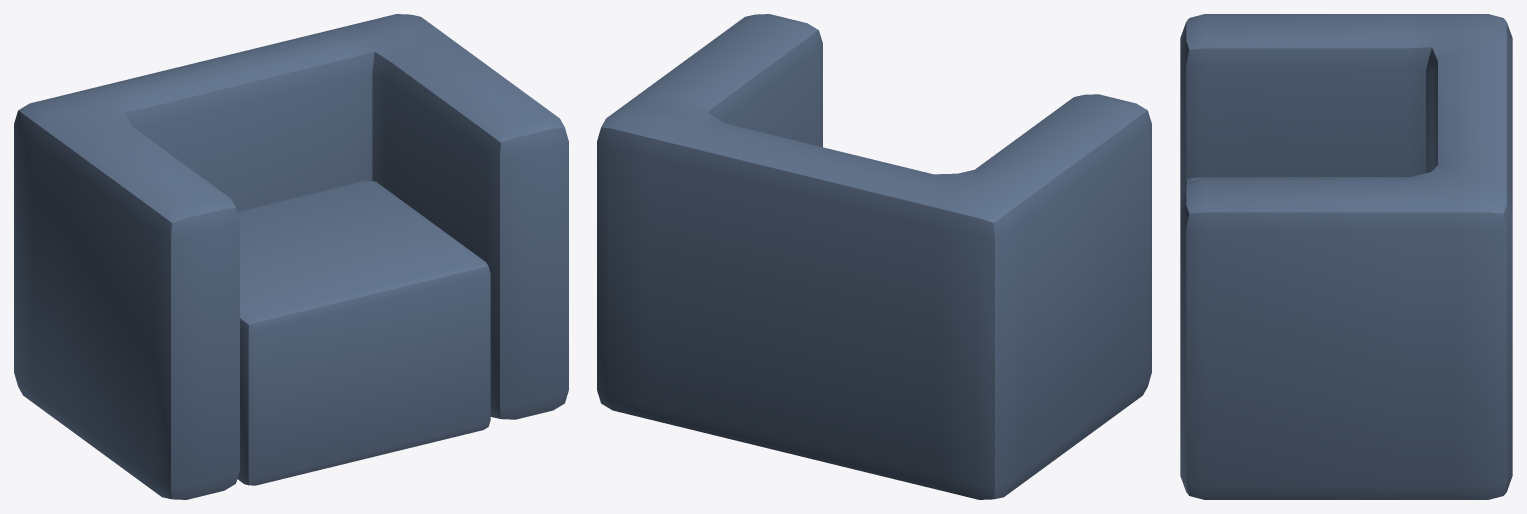
The model's file is LC_3011_ChairF_LOD1.FBX.
The picture shows the model from 3 angles, left to right: view 1: azimuth 30°, elevation 25°; view 2: azimuth 150°, elevation 25°; view 3: azimuth 270°, elevation 25°; orthographic projection. The views are drawn at different scales.
Visible parts, largest first — view 1: LC_3011_ChairF_LOD1; view 2: LC_3011_ChairF_LOD1; view 3: LC_3011_ChairF_LOD1.
Part boxes in pixels (x1,y1,x2,y2): LC_3011_ChairF_LOD1: (14,14,568,499); LC_3011_ChairF_LOD1: (597,14,1151,499); LC_3011_ChairF_LOD1: (1180,14,1512,499).
Bounding box in the file's own units: 96.64 × 66.15 × 66.77.
Materials: 1 (1 with a texture image).
